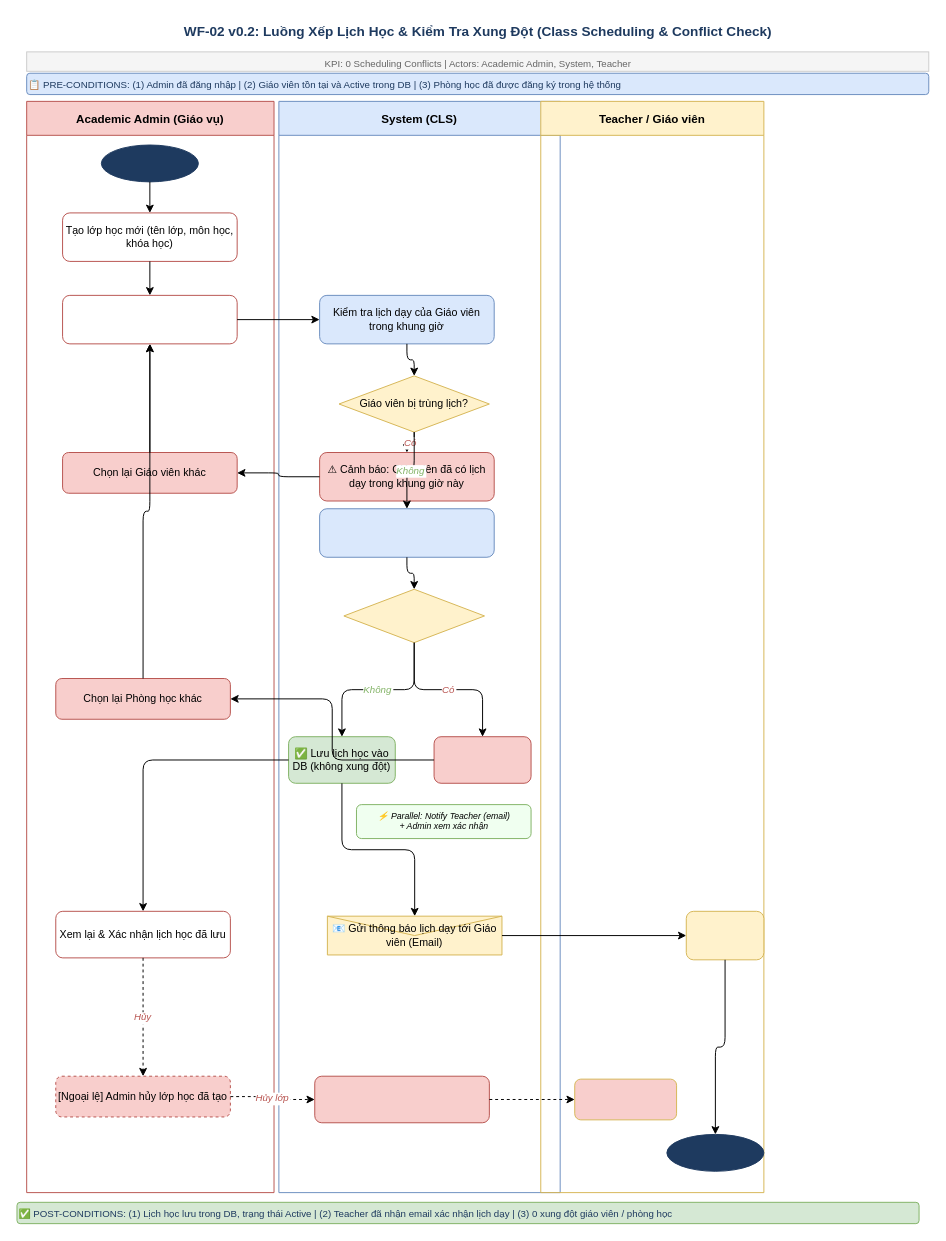
This 946x1241 diagram has some shape labels left out. Here are the shapes that lost their labels. From the top down, the centre of each, then its label:
At [149,163]: "Bắt đầu".
At [149,319]: "Gán: Giáo viên, Phòng học, Khung giờ, Ngày học".
At [406,532]: "Kiểm tra tình trạng Phòng học trong khung giờ".
At [414,615]: "Phòng học bị trùng?".
At [482,759]: "⚠ Cảnh báo: Phòng đã được đặt trong khung giờ này".
At [724,935]: "Nhận thông báo & Xem lịch dạy đã xác nhận".
At [401,1099]: "Rollback lịch học khỏi DB 📧 Notify Teacher: Lịch đã bị hủy".
At [625,1099]: "Nhận thông báo hủy lịch từ Trung tâm".
At [715,1152]: "Kết thúc".
